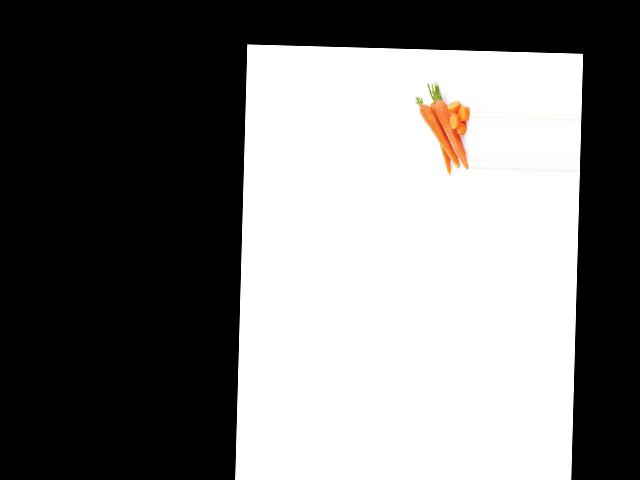carrot: (431, 92, 470, 169)
